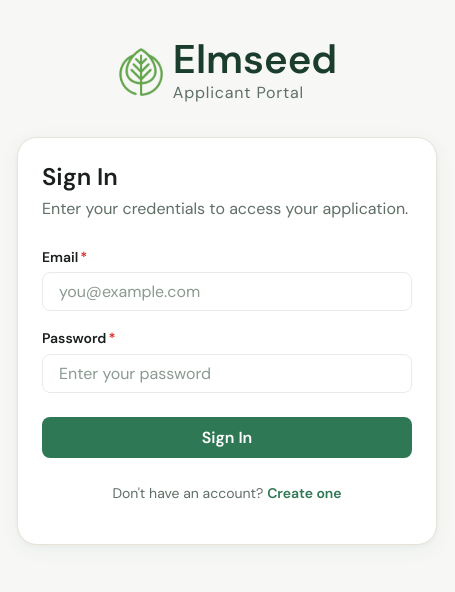
Test: LoginPage › Accessibility › should display error with alert role
Type "test@example.com" into the field labelled "Email*" at (227, 292), box [42,272,412,311]
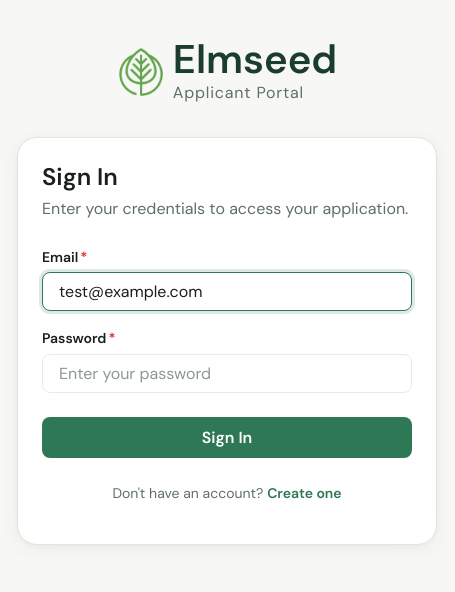
Type "password" into the password field labelled "Password*" at (227, 373), box [42,354,412,393]
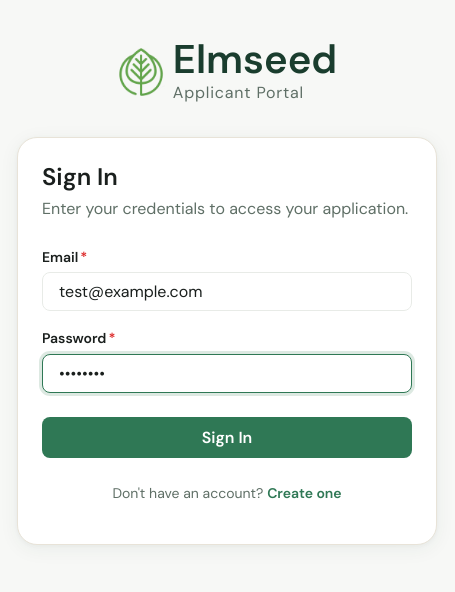
Click the button "Sign In" at (227, 437), box [42,417,412,458]
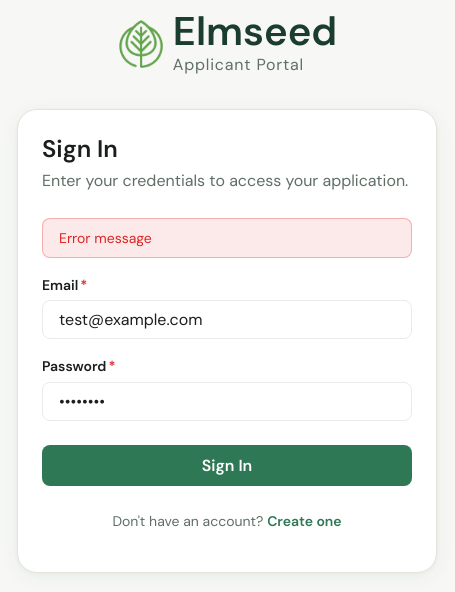
Check: the message "Error message" is shown, box [42,218,412,258]
